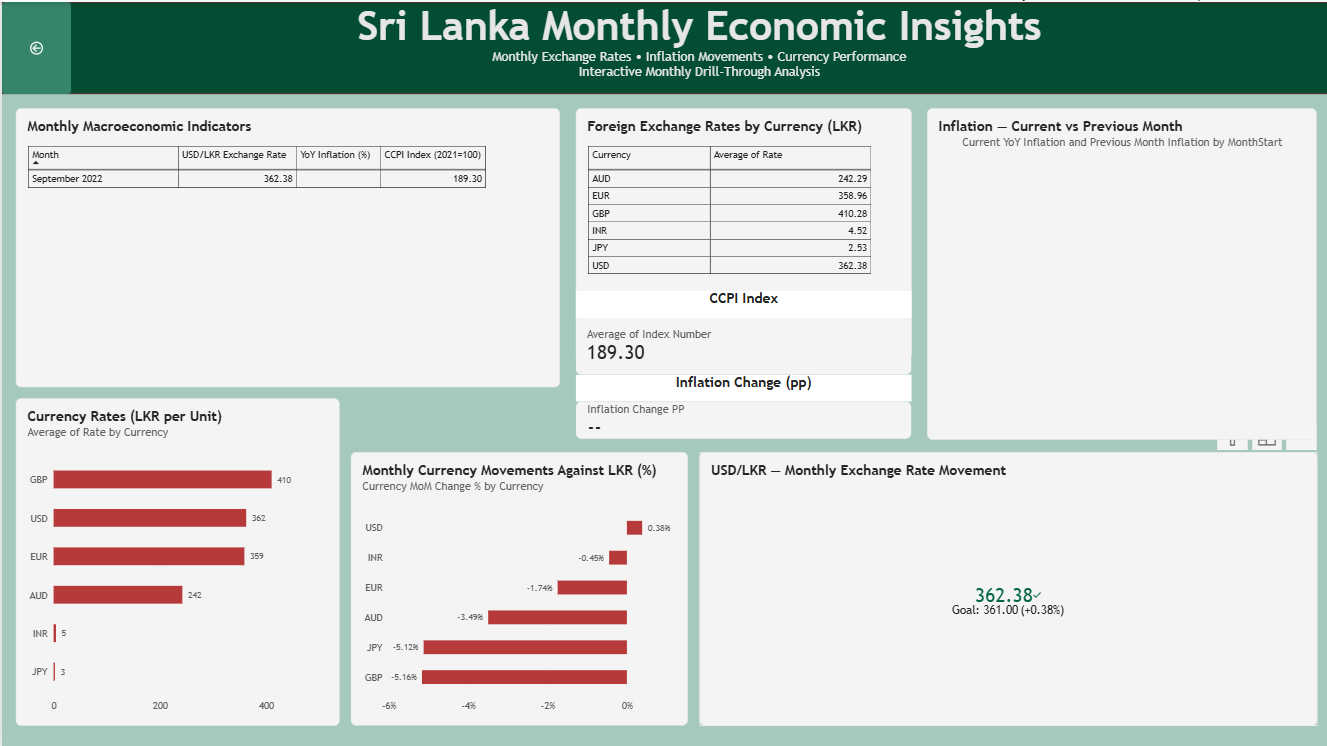

Layout of this report page (visuals, bound fields, positions):
{"tool":"powerbi","page":{"name":"Monthly Detail","canvas":[1920,1080],"ordinal":1},"visuals":[{"type":"shape","box":[0,0,1920,133.3],"z":0},{"type":"tableEx","title":"Monthly Macroeconomic Indicators","fields":{"Values":["DimMonth.MonthStart","ExchangeRates.USD","Avg(InflationData.Year on Year)","Avg(InflationData.Index Number)"]},"box":[20,154,788,404],"z":2000},{"type":"tableEx","title":"Foreign Exchange Rates by Currency (LKR)","fields":{"Values":["CurrencyRates.Currency","Avg(CurrencyRates.Rate)"]},"box":[830,154,486,362],"z":3000},{"type":"clusteredBarChart","title":"Currency Rates (LKR per Unit)","fields":{"Category":["CurrencyRates.Currency"],"Y":["Avg(CurrencyRates.Rate)"]},"box":[19.9,573.7,468.7,474.1],"z":4000},{"type":"actionButton","box":[0,0,100,133.3],"z":4500},{"type":"kpi","title":"USD/LKR — Monthly Exchange Rate Movement","fields":{"Goal":["CurrencyRates.Previous Month USD LKR"],"Indicator":["ExchangeRates.Average USD LKR"],"TrendLine":["DimMonth.MonthStart"]},"box":[1010,652,894,396],"z":5000},{"type":"kpi","title":"Inflation — Current vs Previous Month","fields":{"Goal":["InflationData.Previous Month Inflation"],"Indicator":["InflationData.Current YoY Inflation"],"TrendLine":["DimMonth.MonthStart"]},"box":[1340,154,564,480],"z":6000},{"type":"cardVisual","title":"Inflation Change (pp)","fields":{"Data":["InflationData.Inflation Change PP"]},"box":[830,540,486,94],"z":7000},{"type":"cardVisual","title":"CCPI Index","fields":{"Data":["Avg(InflationData.Index Number)"]},"box":[830,418,486,122],"z":8000},{"type":"textbox","box":[100,0,1820,176],"z":9000},{"type":"clusteredBarChart","title":"Monthly Currency Movements Against LKR (%)","fields":{"Category":["CurrencyRates.Currency"],"Y":["CurrencyRates.Currency MoM Change %"]},"box":[504,652,488,396],"z":9001}]}

Visuals, with their boxes in screenshot pixels (x1, y1, x2, y2), scaled from the page's 1920x1080 canvas onto the 1327x746 screenshot:
shape: box(0, 0, 1326, 92)
"Monthly Macroeconomic Indicators" tableEx: box(14, 106, 558, 385)
"Foreign Exchange Rates by Currency (LKR)" tableEx: box(574, 106, 910, 356)
"Currency Rates (LKR per Unit)" clusteredBarChart: box(14, 396, 338, 724)
actionButton: box(0, 0, 69, 92)
"USD/LKR — Monthly Exchange Rate Movement" kpi: box(698, 450, 1316, 724)
"Inflation — Current vs Previous Month" kpi: box(926, 106, 1316, 438)
"Inflation Change (pp)" cardVisual: box(574, 373, 910, 438)
"CCPI Index" cardVisual: box(574, 289, 910, 373)
textbox: box(69, 0, 1326, 122)
"Monthly Currency Movements Against LKR (%)" clusteredBarChart: box(348, 450, 686, 724)
